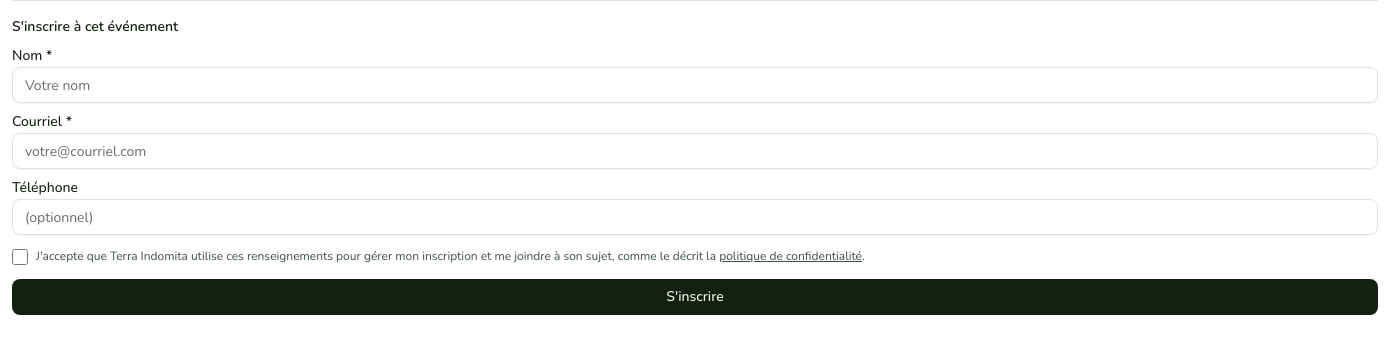
Test case: RegistrationForm › requires consent before submitting
Type "Jean Test" into the field with placeholder "Votre nom" at (695, 85), box [12, 67, 1378, 103]
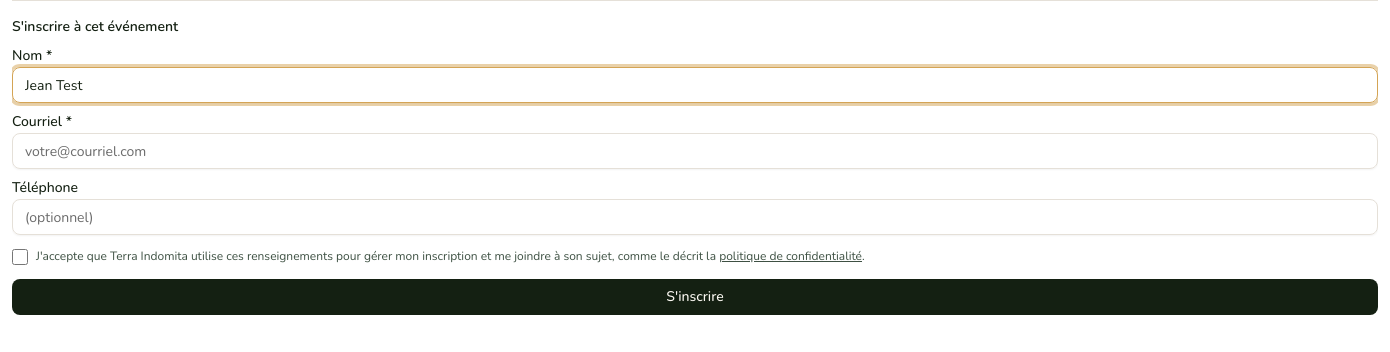
Type "jean@test.com" into the field with placeholder "votre@courriel.com" at (695, 151), box [12, 133, 1378, 169]
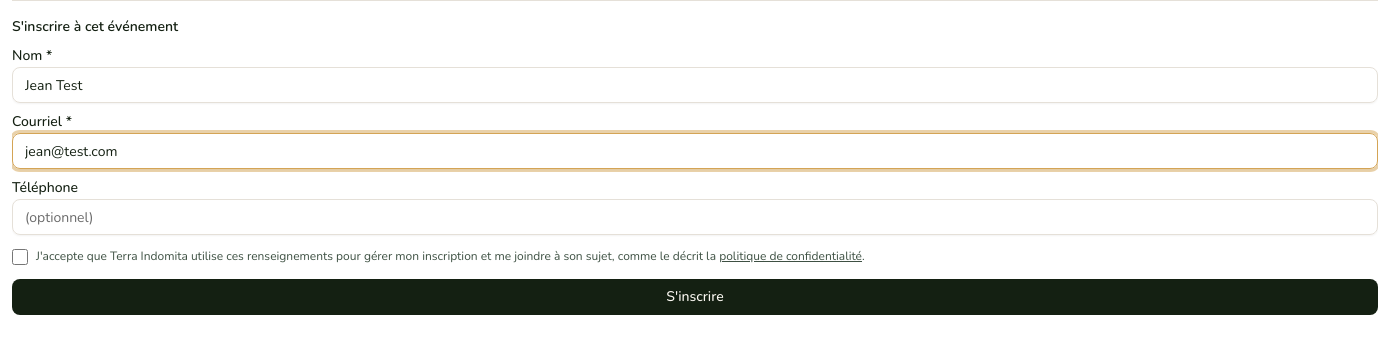
Click the button "S'inscrire" at (695, 296), box [12, 278, 1378, 314]
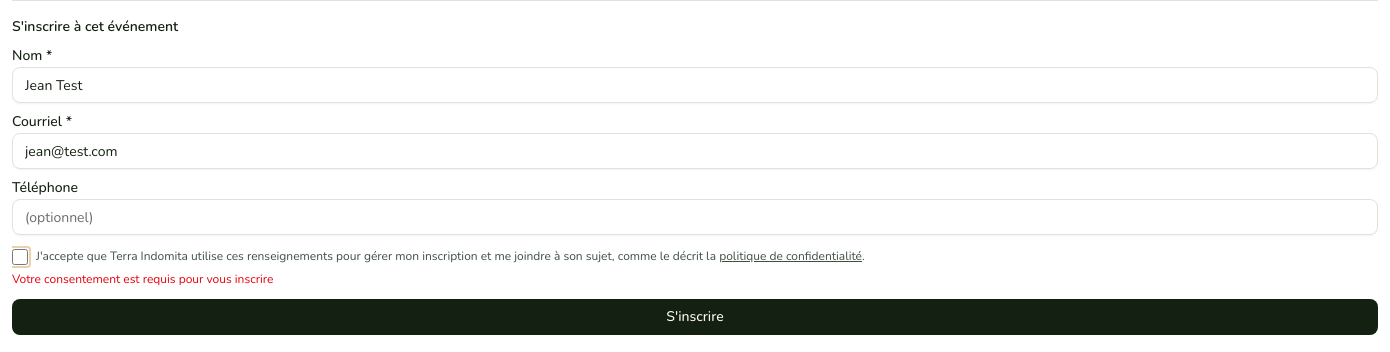
Result: the text "Votre consentement est requis pour vous inscrire" is shown at [12, 270, 273, 286]
